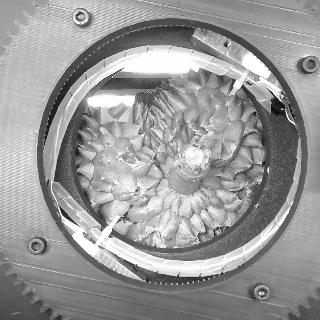base: (166, 163, 204, 199)
end: (184, 146, 212, 168)
